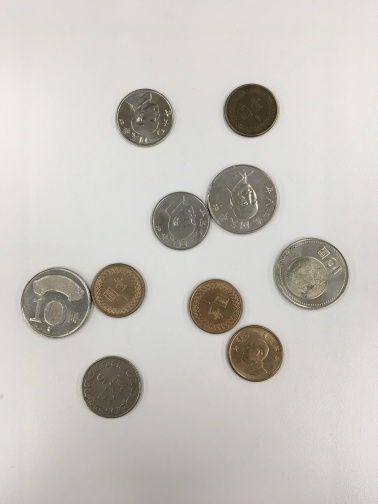1 dollar: (214, 77, 293, 149), (219, 321, 298, 390), (86, 251, 153, 324), (183, 270, 247, 338)
10 dollar: (266, 230, 362, 324), (12, 258, 97, 345), (202, 158, 283, 240)
5 dollar: (74, 353, 151, 423), (109, 80, 182, 150), (143, 184, 213, 257)
